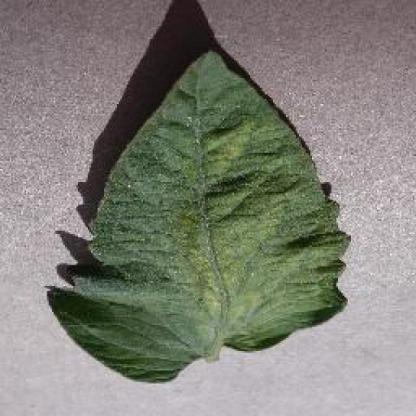Tomato_Spider_Mites: (48, 54, 350, 379)
